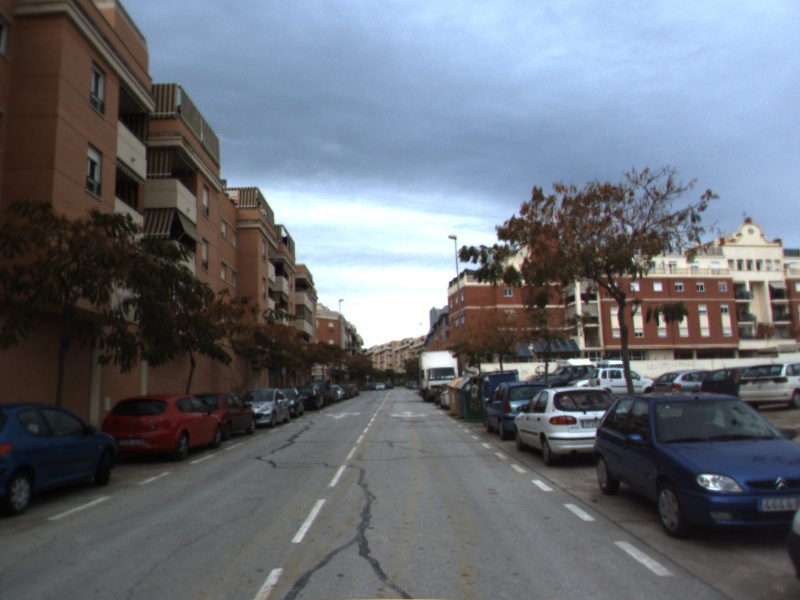STRAIGHT_LEFT_RIGHT: (388, 408, 431, 420)
